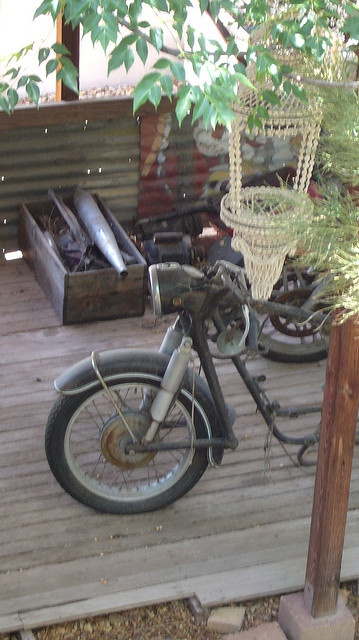non-vehicle: (43, 259, 358, 516), (209, 195, 337, 364)
